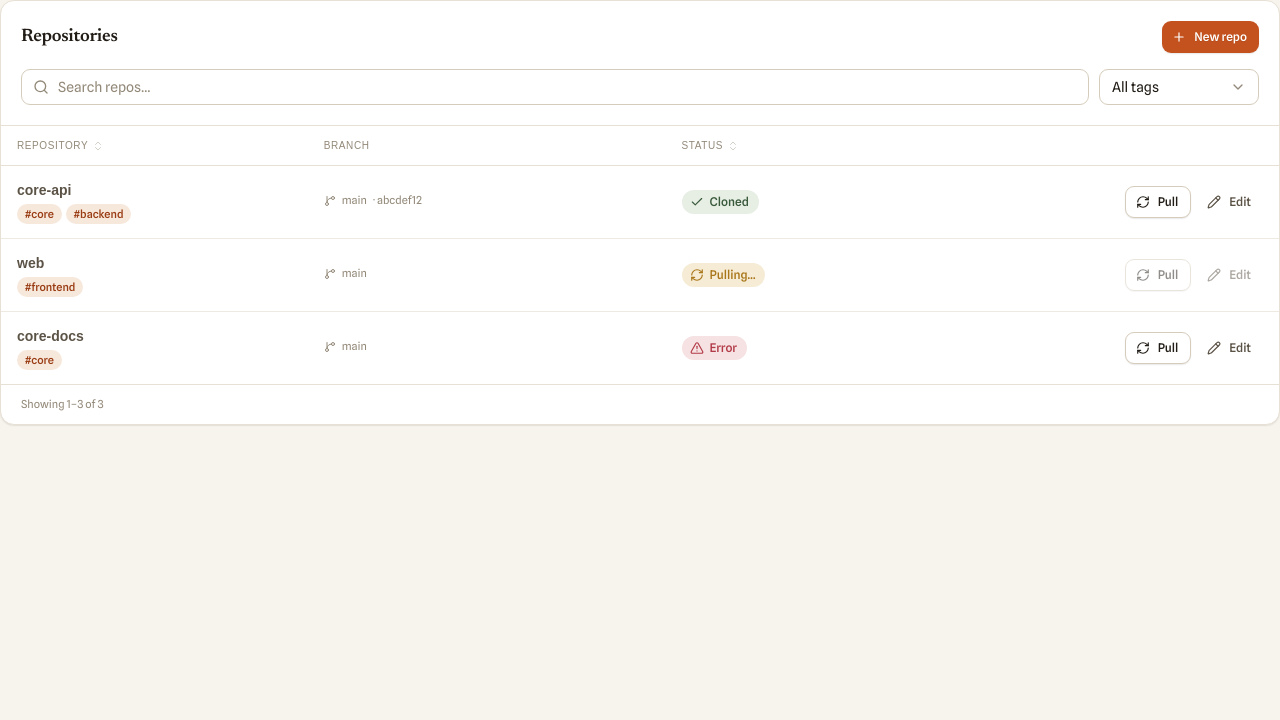
Test: WorkspaceClient filter island (Flow E) › says "no match" only when repos exist but the filter excludes them
Type "zzzz-no-such-repo" into the search field labelled "Search repos" at (555, 87), box x1=21 y1=69 x2=1089 y2=105
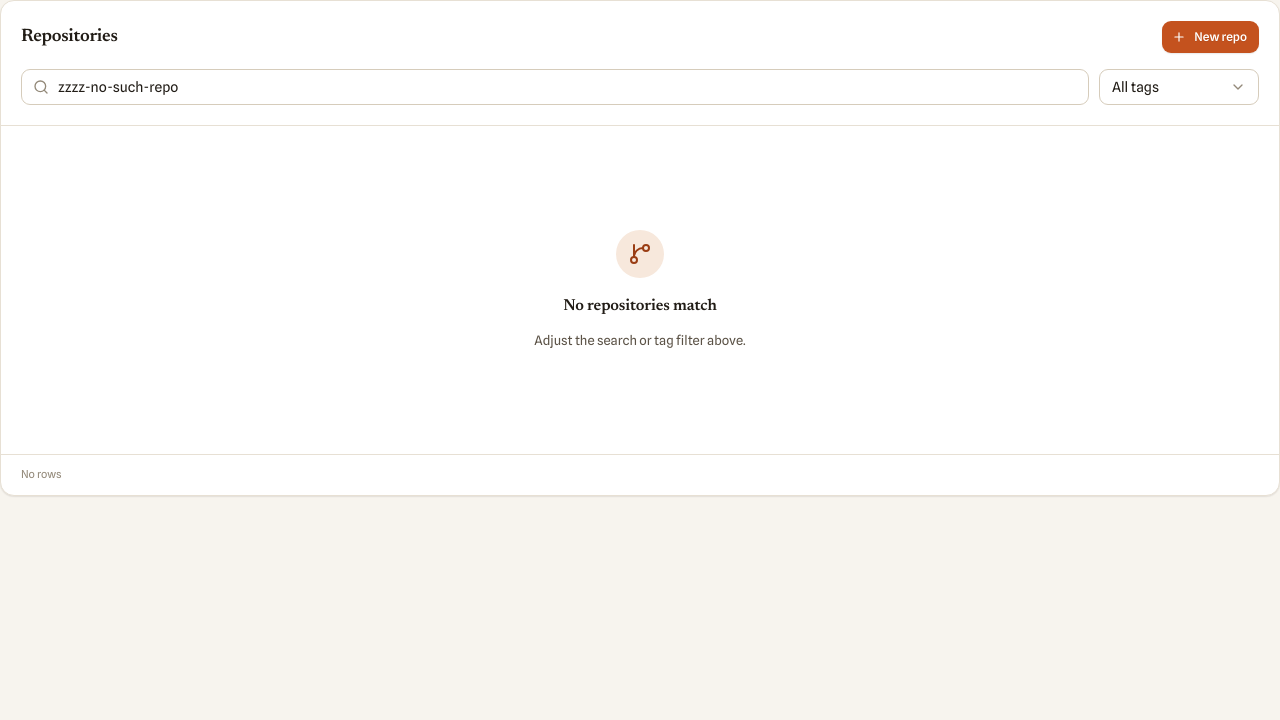
Check: the heading "No repositories match" is shown, box x1=563 y1=294 x2=717 y2=318
Check: the text "Adjust the search or tag filter above." is shown, box x1=534 y1=330 x2=746 y2=350
